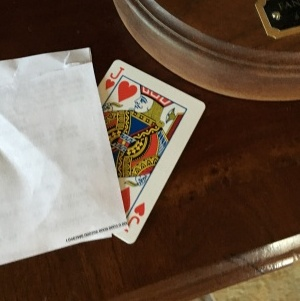card: (92, 58, 207, 243)
